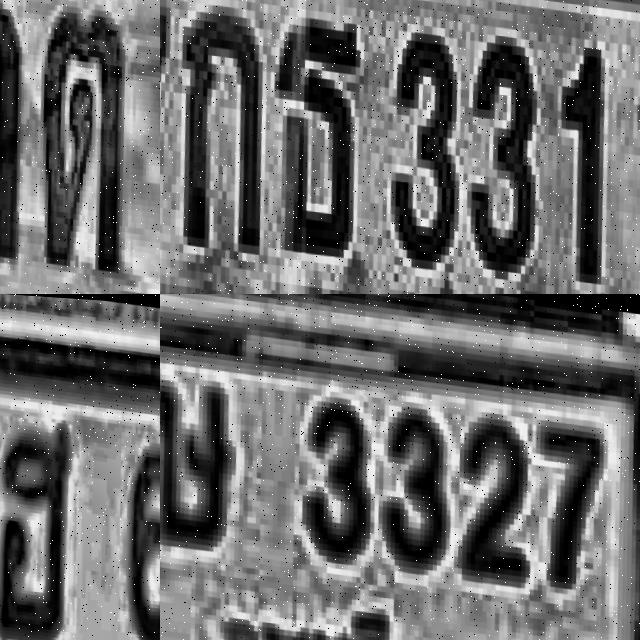license-plate: (160, 296, 640, 640), (160, 0, 640, 294), (0, 296, 160, 640), (0, 0, 160, 294)
